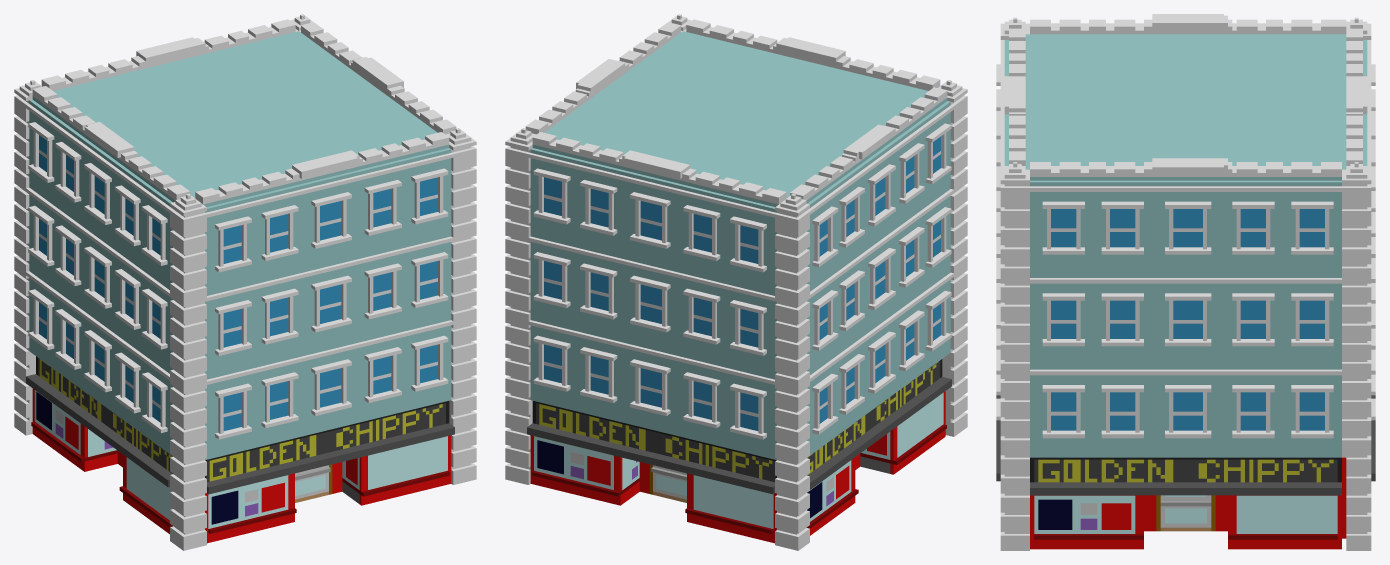
Rendered from obj_store03.obj.
3 renders of one model, left to right at view 1: azimuth 30°, elevation 25°; view 2: azimuth 150°, elevation 25°; view 3: azimuth 270°, elevation 25°, orthographic. The views are drawn at different scales.
Bounding box in the file's own units: 9 × 10 × 9.
Materials: 1 (1 with a texture image).
